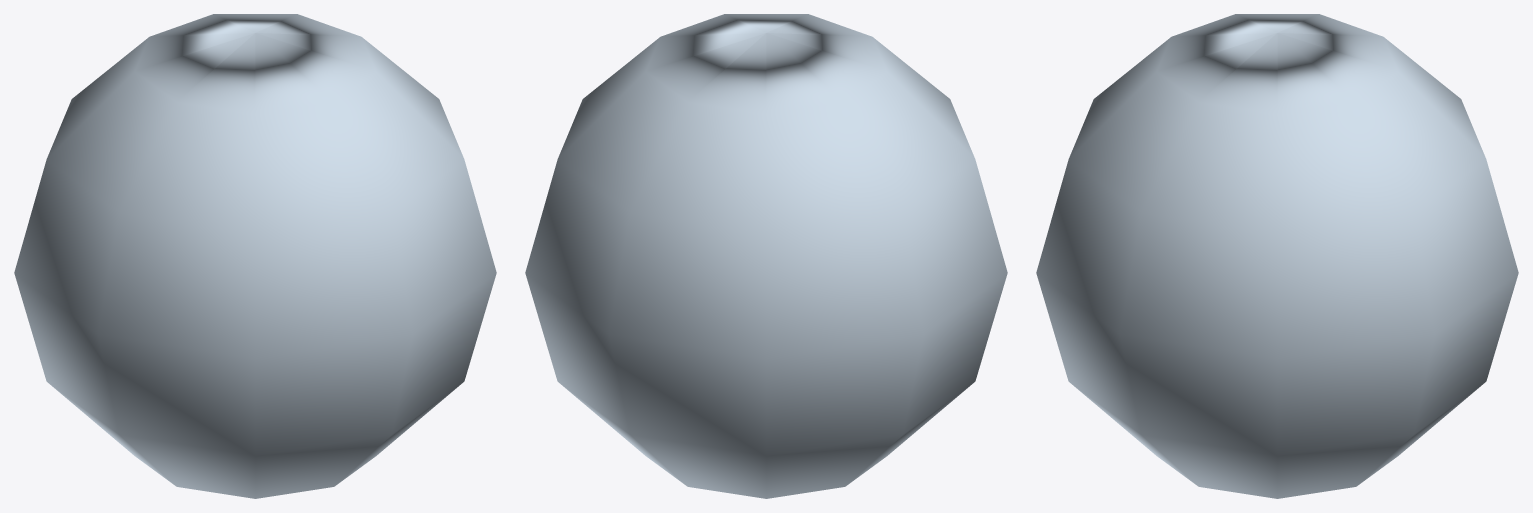
Rendered from 2073_SharkWave_FoamDroplet.fbx.
The picture shows the model from 3 angles, left to right: view 1: azimuth 30°, elevation 25°; view 2: azimuth 150°, elevation 25°; view 3: azimuth 270°, elevation 25°; orthographic projection.
Visible parts, largest first — view 1: PART_SmallFoamWaterDrop; view 2: PART_SmallFoamWaterDrop; view 3: PART_SmallFoamWaterDrop.
Boxes of the visible parts, x1,y1,x2,y2 form: PART_SmallFoamWaterDrop: [14, 14, 496, 498]; PART_SmallFoamWaterDrop: [525, 14, 1007, 498]; PART_SmallFoamWaterDrop: [1036, 14, 1518, 498].
Size of the model in its own units: 8.73 by 9 by 8.86.
